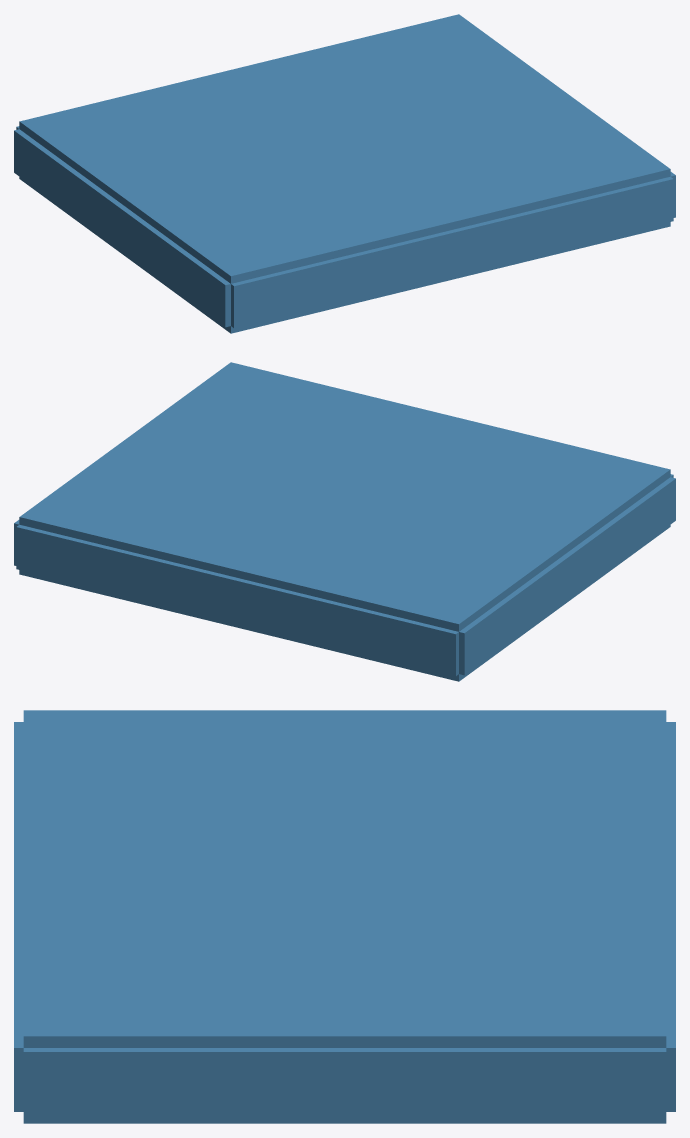
File: pallet-plastic-1200.glb
3 renders of one model, top to bottom at view 1: azimuth 30°, elevation 25°; view 2: azimuth 150°, elevation 25°; view 3: azimuth 270°, elevation 25°, orthographic. The views are drawn at different scales.
Parts seen in each view (by area): view 1: world; view 2: world; view 3: world.
Boxes of the visible parts, <box> form: world: <box>14,14,675,333</box>; world: <box>14,362,675,681</box>; world: <box>14,710,675,1123</box>.
Size of the model in its own units: 1230 by 150 by 1030.
